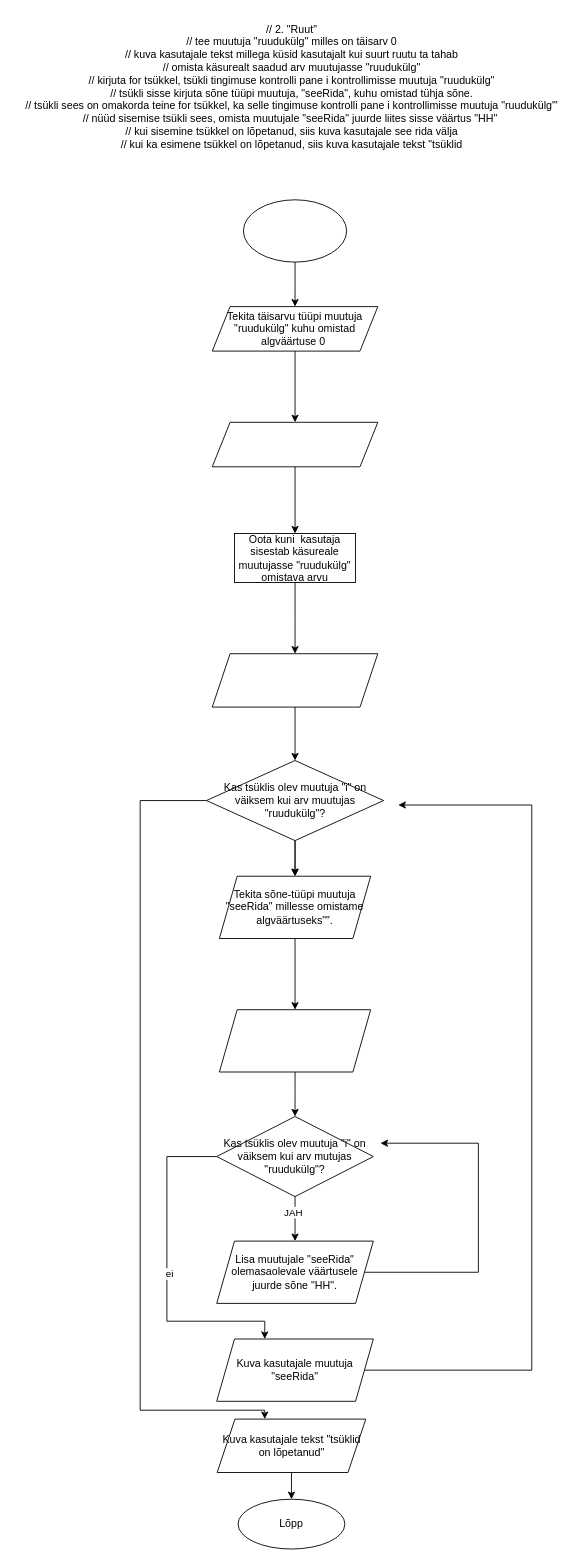
Image size: 582x1565. Some labels were removed from this diagram. The centre of each missing label's shape, as x and y in pixels:
Algus: (x=295, y=230)
Kuva kasutajale tekst "kui suurt ruutu te tahate": (x=294, y=444)
Seadista for-tsükkel millel on tsükli töö joaks muutuja "i": (x=294, y=680)
seadista teine for-tsükkel millel on tsükli töö joaks muutuja "i": (x=294, y=1040)
